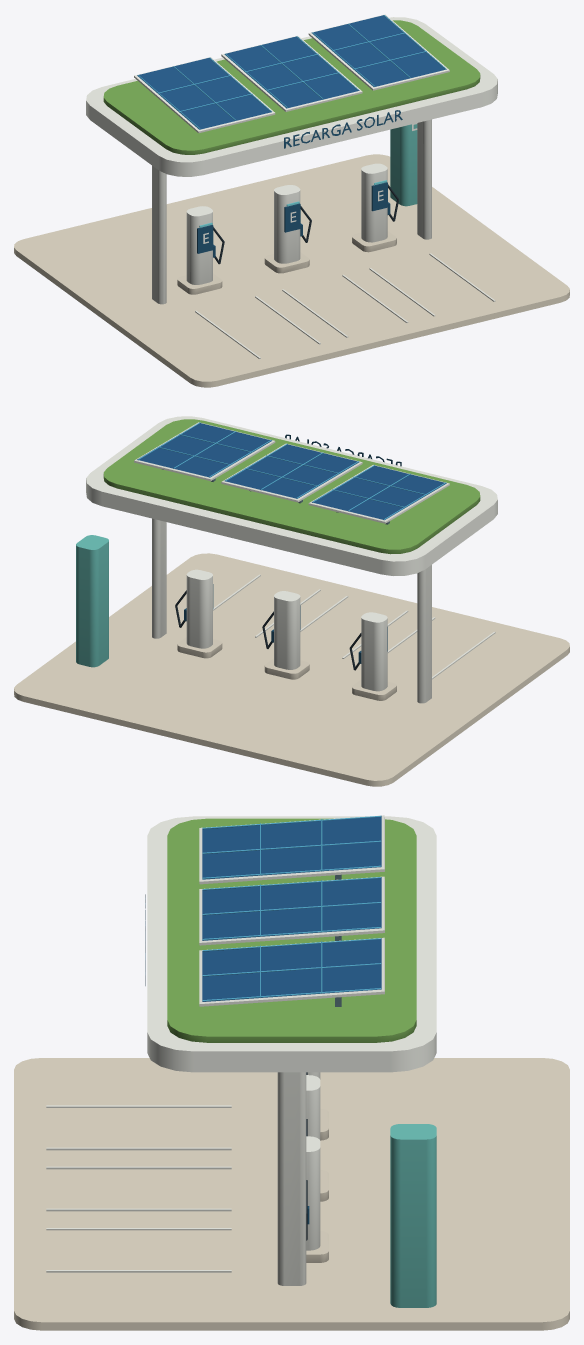
The model's file is fuel-station-low.glb.
3 renders of one model, top to bottom at view 1: azimuth 30°, elevation 25°; view 2: azimuth 150°, elevation 25°; view 3: azimuth 270°, elevation 25°, orthographic. The views are drawn at different scales.
Parts seen in each view (by area): view 1: charging forecourt, charging roof column, photovoltaic cells, canopy green inset, energy totem, charging face, solar cell division; view 2: charging forecourt, charging roof column, canopy green inset, photovoltaic cells, energy totem, solar cell division; view 3: charging forecourt, charging roof column, photovoltaic cells, canopy green inset, energy totem, solar cell division.
Boxes of the visible parts, x1,y1,x2,y2 form: charging forecourt: [14, 154, 569, 387]; charging roof column: [86, 14, 497, 358]; photovoltaic cells: [137, 15, 446, 129]; canopy green inset: [103, 20, 480, 154]; energy totem: [390, 124, 417, 206]; charging face: [197, 110, 402, 257]; solar cell division: [137, 15, 445, 129]; charging forecourt: [14, 553, 569, 786]; charging roof column: [86, 416, 497, 703]; canopy green inset: [103, 419, 480, 554]; photovoltaic cells: [137, 423, 446, 519]; energy totem: [76, 535, 108, 667]; solar cell division: [138, 422, 446, 519]; charging forecourt: [14, 1058, 569, 1330]; charging roof column: [46, 815, 436, 1285]; photovoltaic cells: [202, 815, 381, 1001]; canopy green inset: [167, 818, 416, 1042]; energy totem: [390, 1124, 436, 1307]; solar cell division: [202, 815, 381, 1001].
Bounding box in the file's own units: 5.4 × 2.82 × 4.8.
